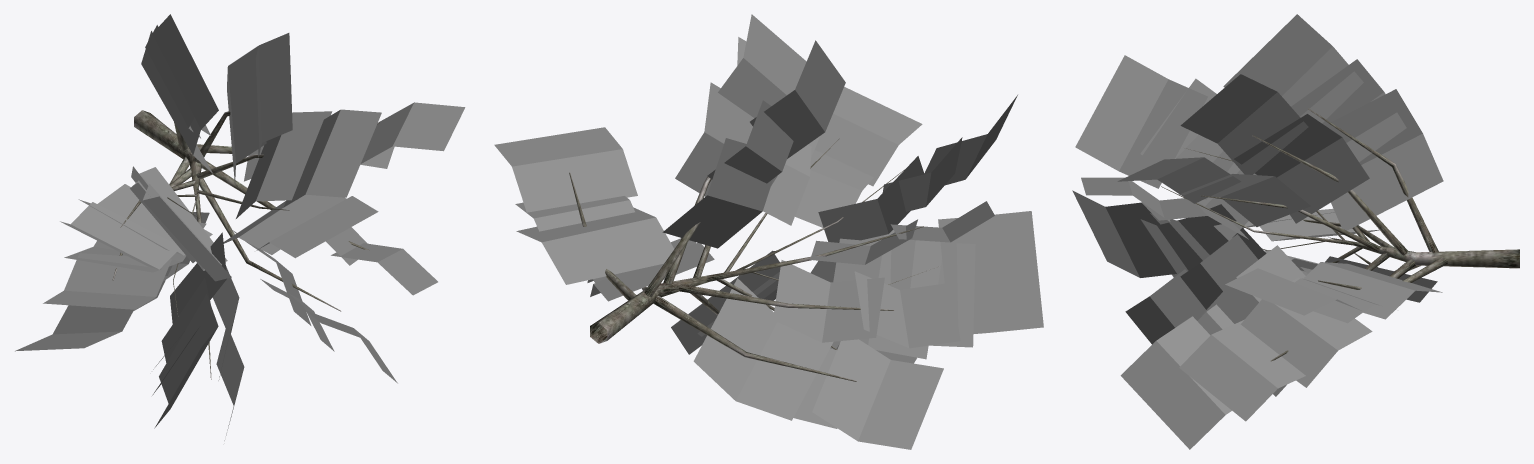
The model's file is cherry_bb_2_1.obj.
The picture shows the model from 3 angles, left to right: view 1: azimuth 30°, elevation 25°; view 2: azimuth 150°, elevation 25°; view 3: azimuth 270°, elevation 25°; orthographic projection. The views are drawn at different scales.
Parts seen in each view (by area): view 1: plant_pmat3, plant_pmat2, plant_pmat1; view 2: plant_pmat3, plant_pmat2, plant_pmat1; view 3: plant_pmat3, plant_pmat2, plant_pmat1.
Part boxes in pixels (x1,y1,x2,y2): plant_pmat3: [15, 14, 465, 440]; plant_pmat2: [112, 111, 379, 379]; plant_pmat1: [134, 110, 201, 203]; plant_pmat3: [494, 14, 1043, 449]; plant_pmat2: [569, 138, 938, 381]; plant_pmat1: [590, 271, 729, 343]; plant_pmat3: [1072, 14, 1443, 449]; plant_pmat2: [1161, 108, 1447, 361]; plant_pmat1: [1328, 237, 1519, 268].
Bounding box in the file's own units: 4.03 × 3.45 × 3.71.
